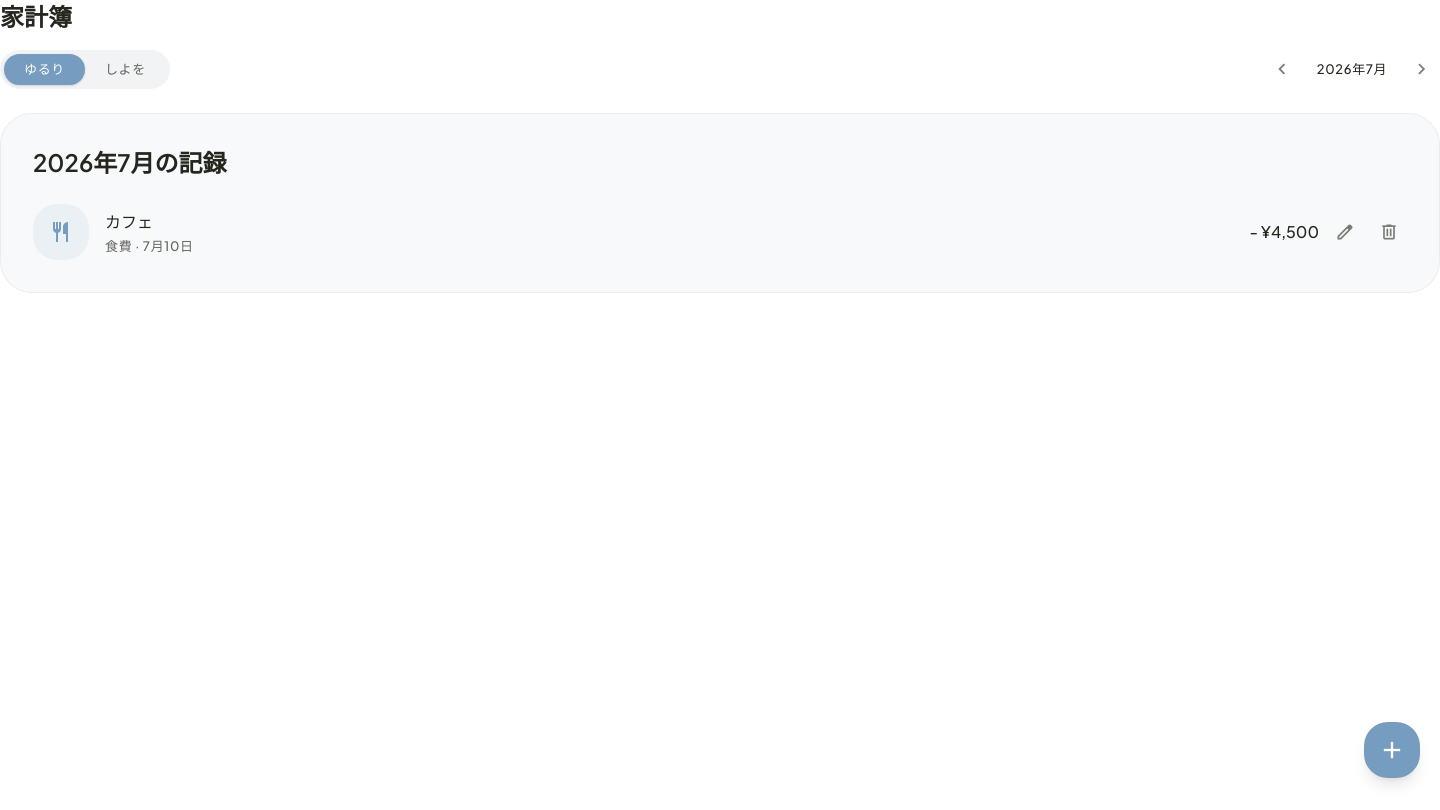
LedgerPage 統合 › 編集: 既存値がプリフィルされ、更新すると反映される
This screenshot has width=1440, height=810.
Click the button named "編集" at x=1345, y=232, box x1=1327 y1=214 x2=1363 y2=250
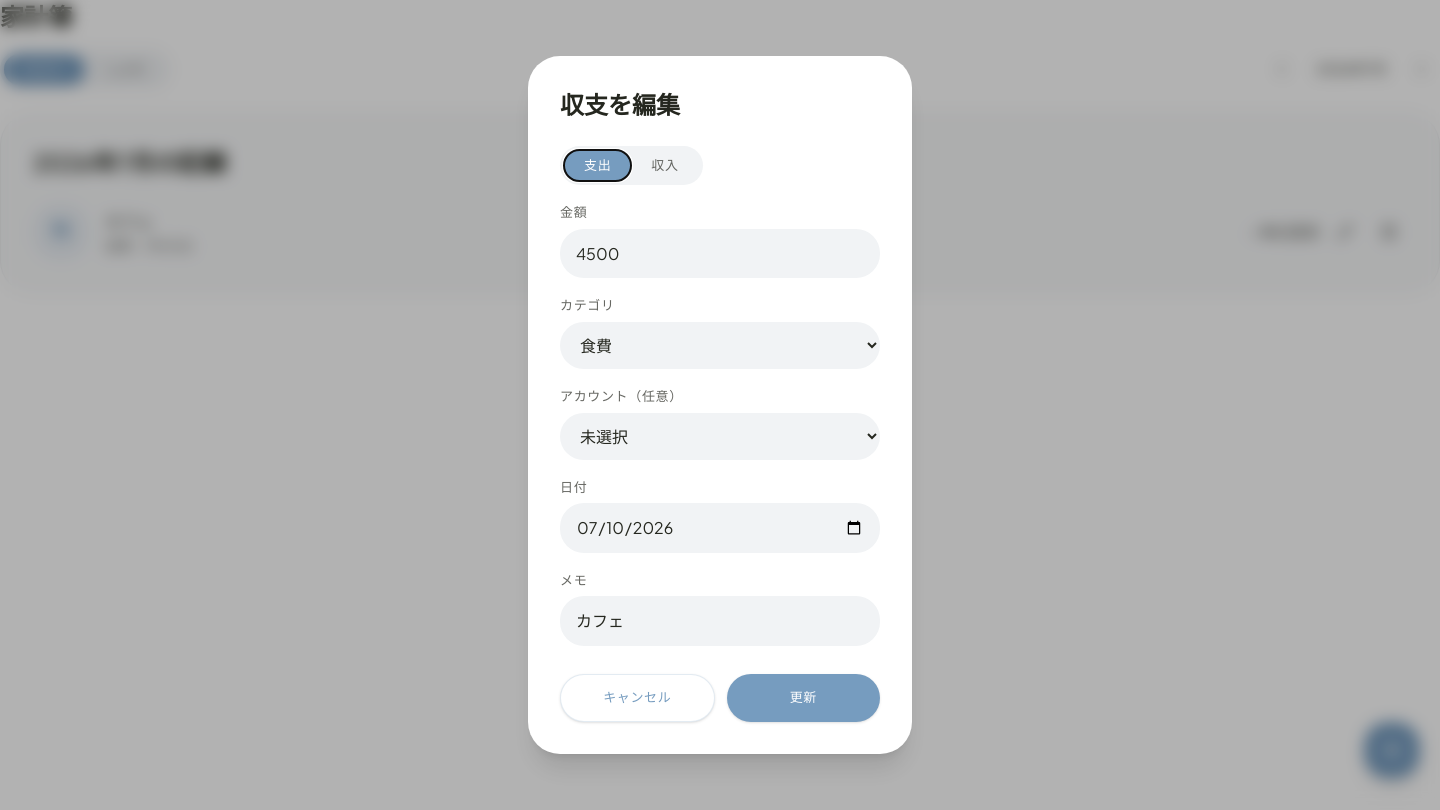
Now the field with placeholder "0" holds "4500"
Replace the text in the field with placeholder "0" with "5000" at x=720, y=254, box x1=560 y1=229 x2=880 y2=278
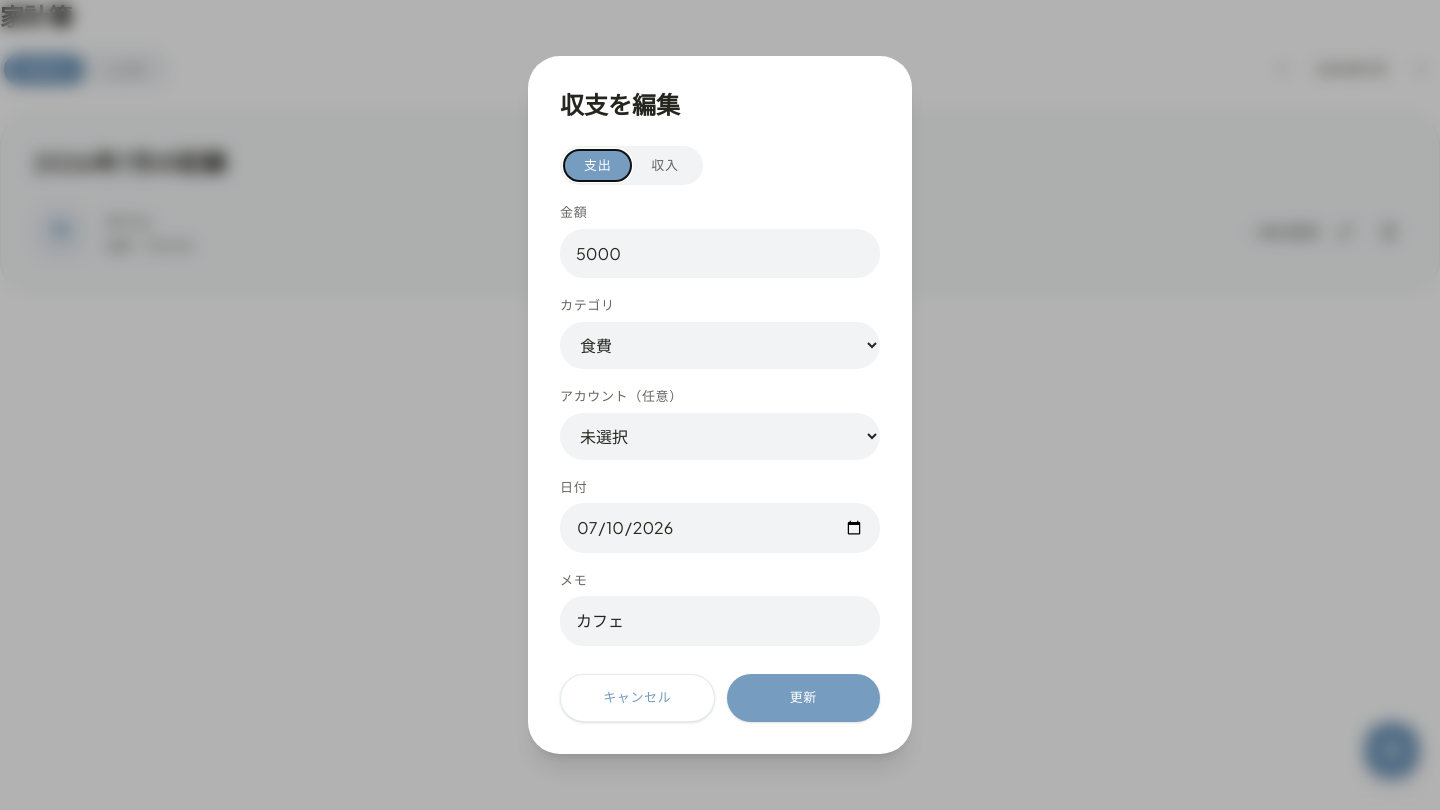
Click the button "更新" at x=803, y=698, box x1=727 y1=674 x2=880 y2=722
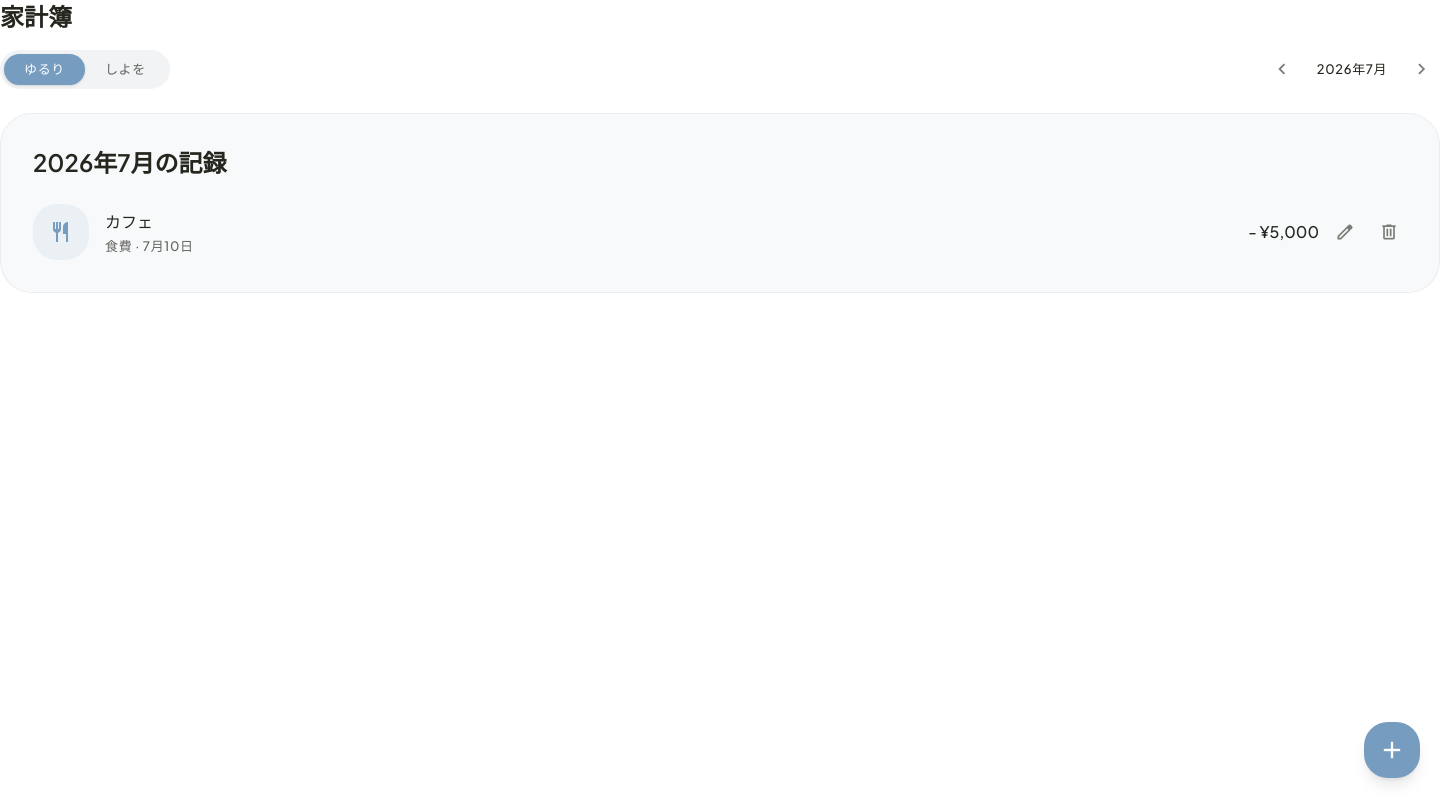
Now the text "- ¥5,000" is shown, box x1=1248 y1=219 x2=1319 y2=245
Now the dialog is gone
